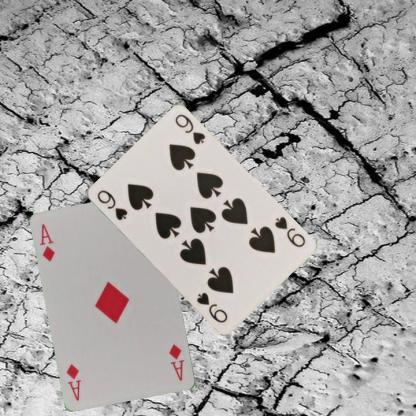9s: (94, 187, 129, 222), (272, 214, 306, 249)
Ad: (37, 221, 57, 263), (166, 342, 186, 382)
